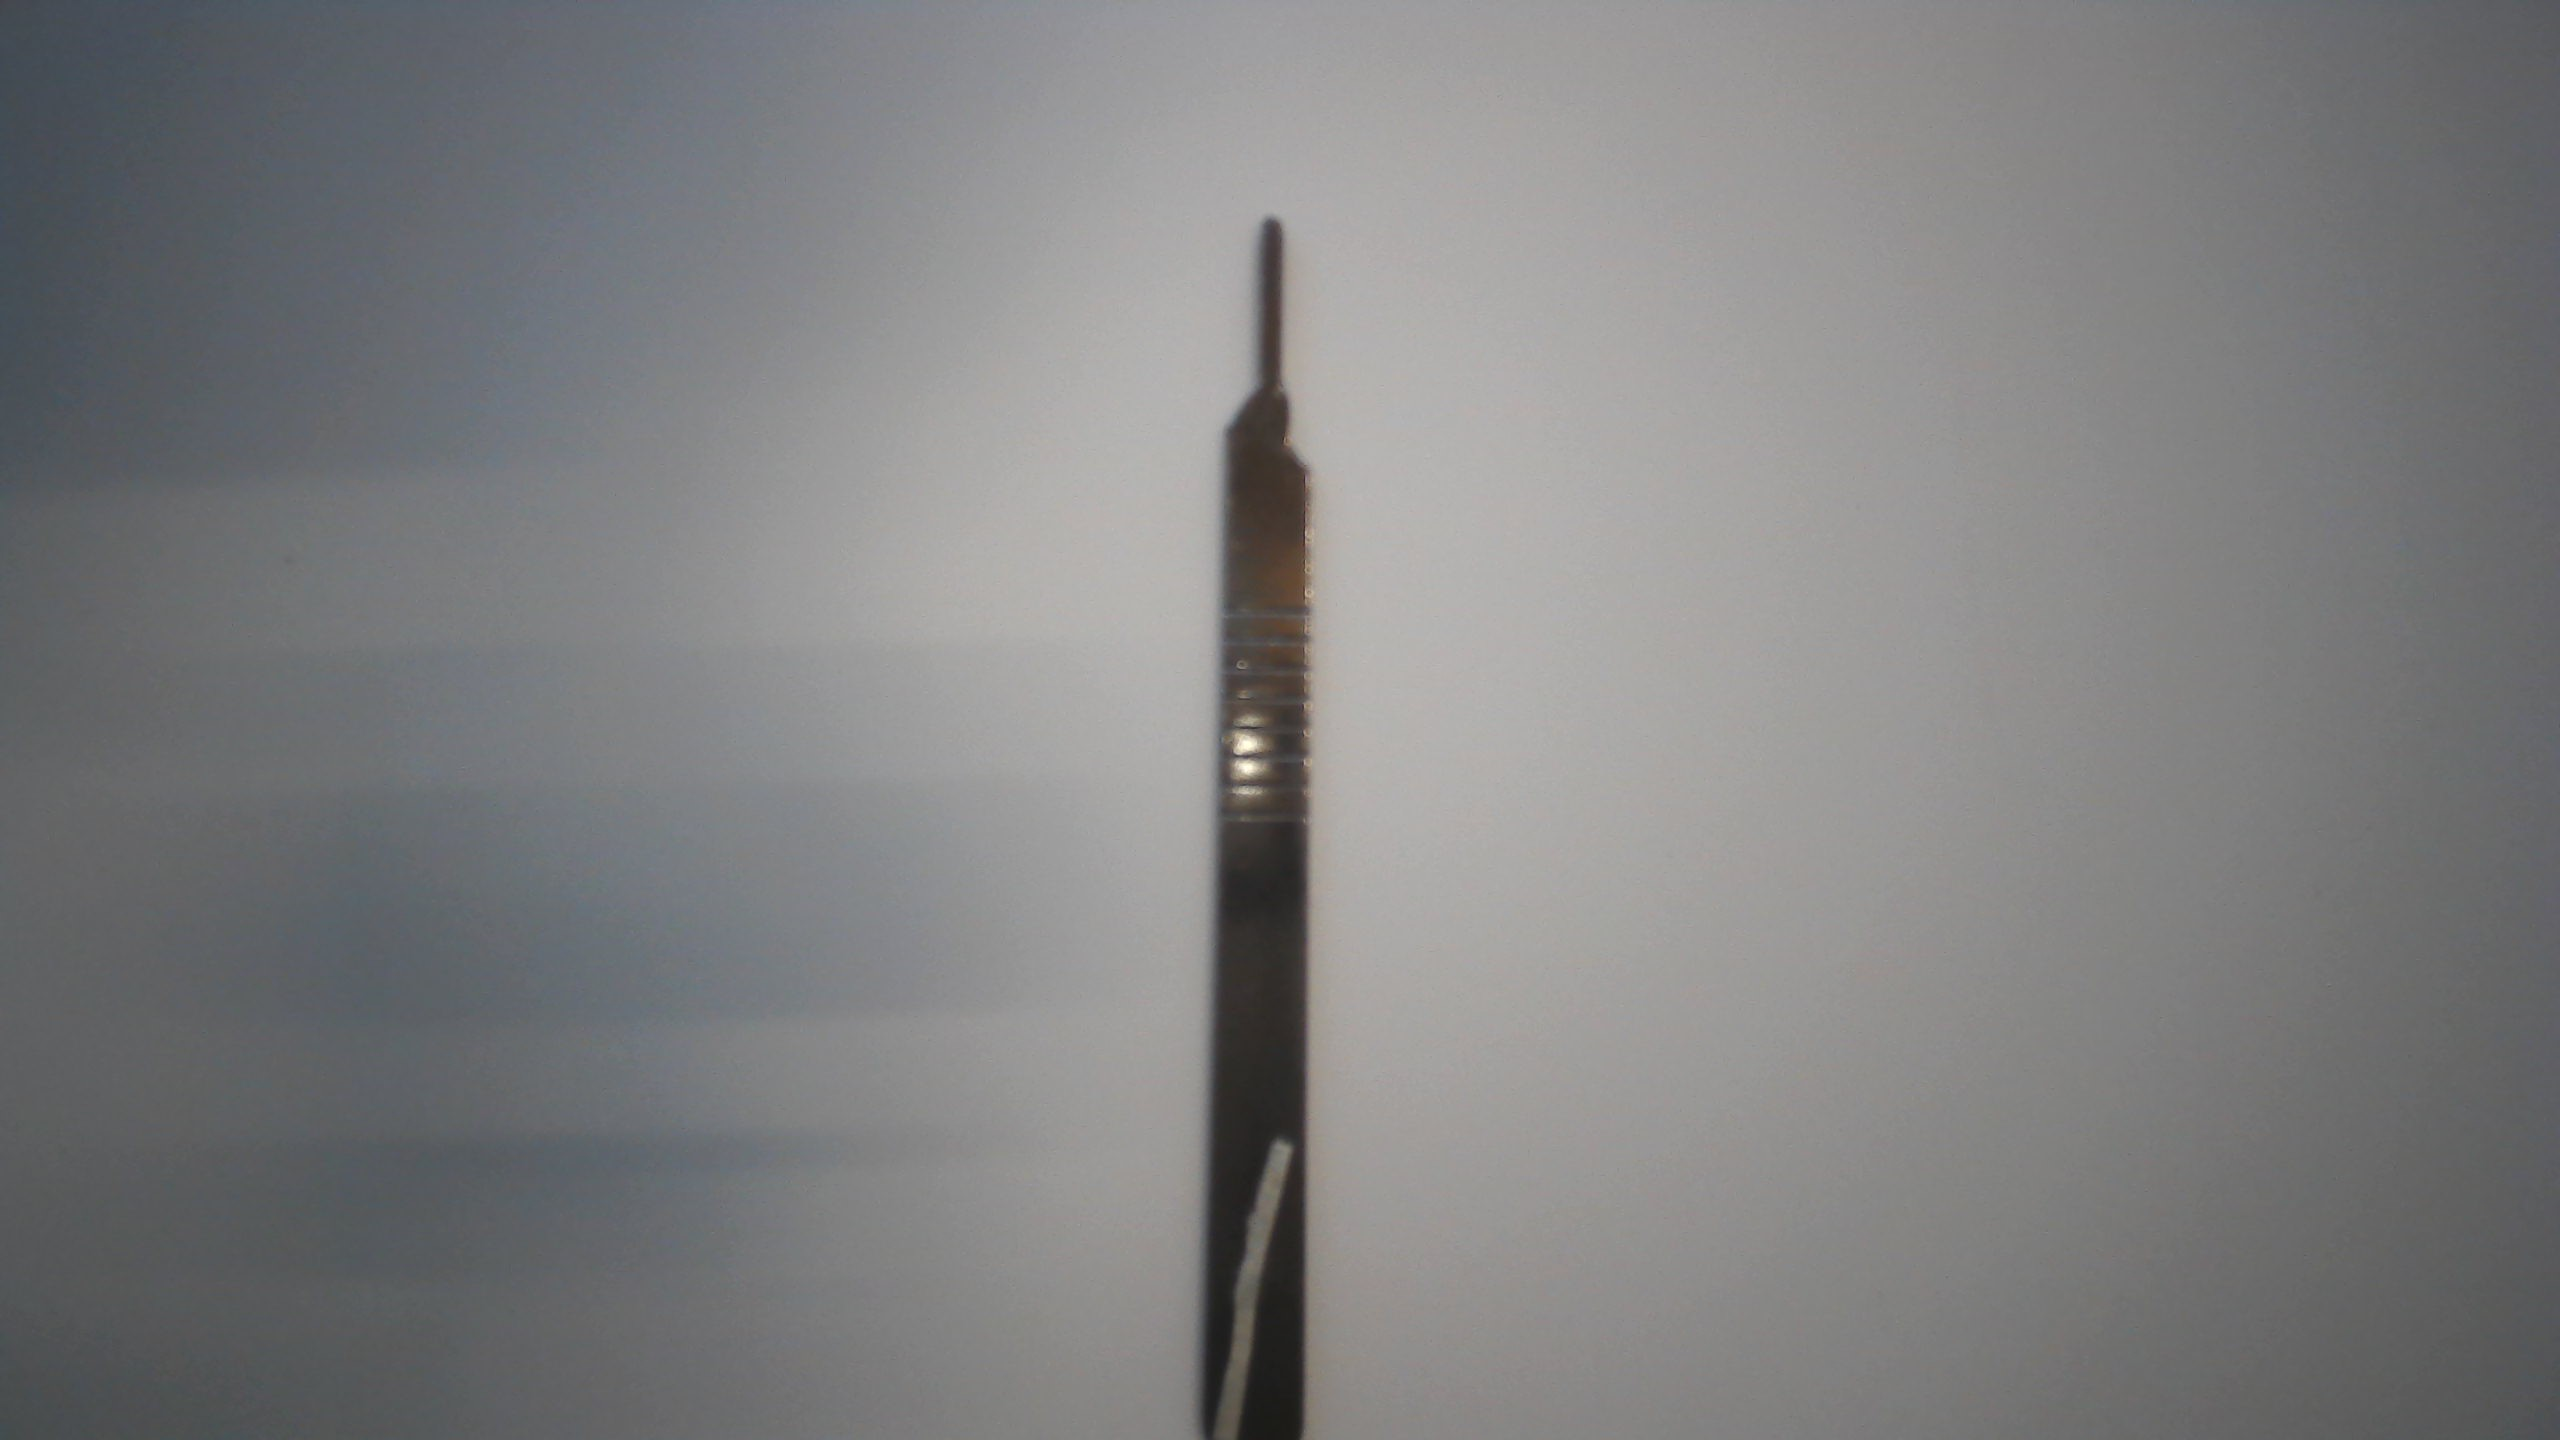Scratches: (1190, 1124, 1310, 1435)
